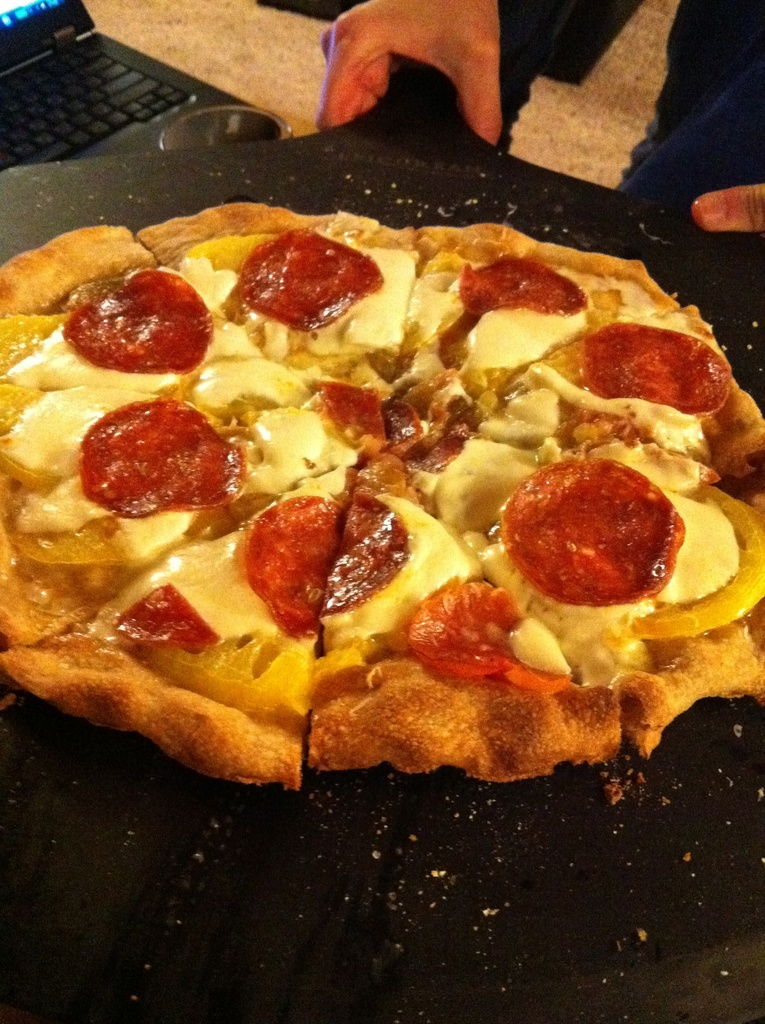Pizza: (0, 153, 752, 835)
